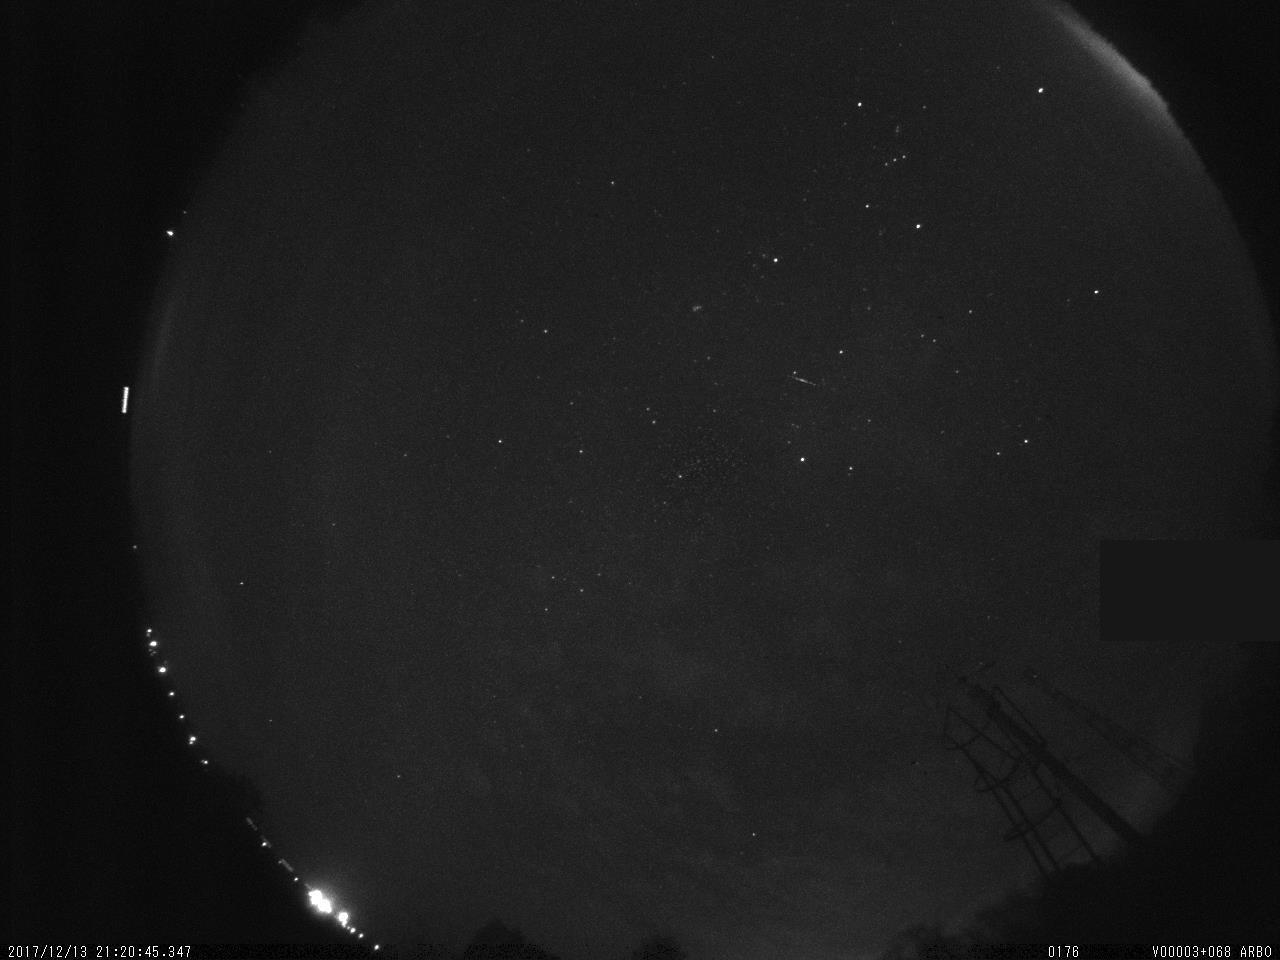meteor: (788, 370, 820, 392)
